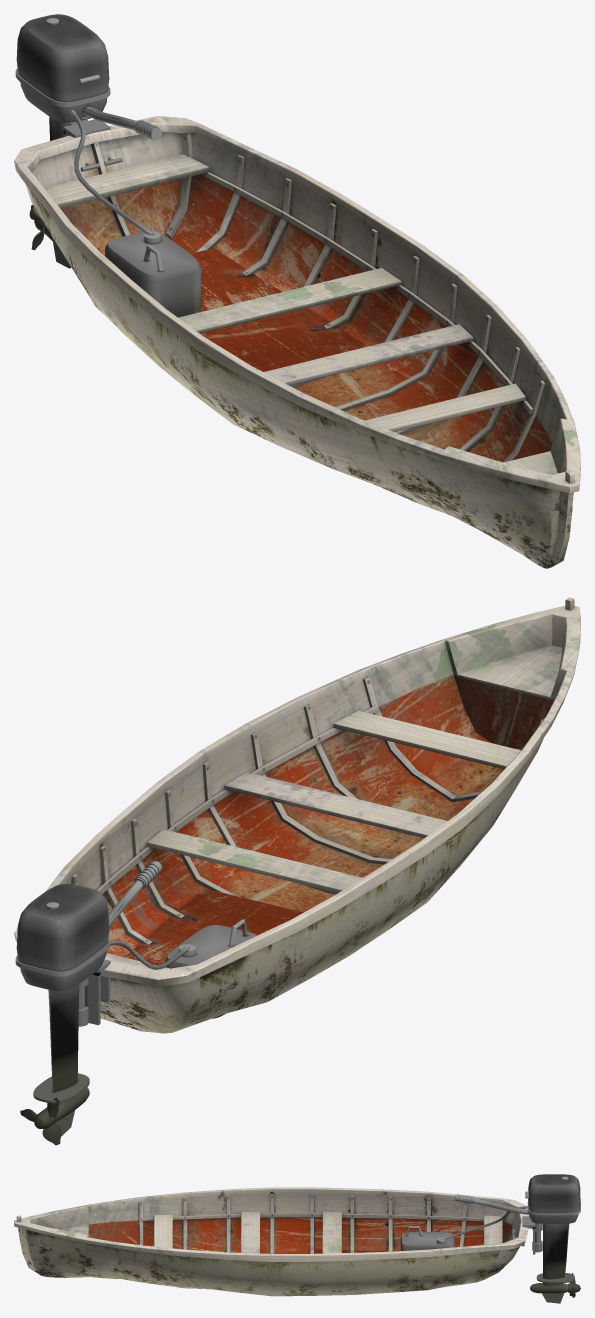
File: boat.glb
The picture shows the model from 3 angles, top to bottom: view 1: azimuth 30°, elevation 25°; view 2: azimuth 150°, elevation 25°; view 3: azimuth 270°, elevation 25°; orthographic projection. The views are drawn at different scales.
Parts seen in each view (by area): view 1: hull, motor, tank, bracket; view 2: hull, motor, tank, bracket, prop; view 3: hull, motor, tank, bracket.
Boxes of the visible parts, box(x1,y1,x2,y2) form: hull: box(14, 116, 580, 568); motor: box(15, 14, 162, 268); tank: box(70, 110, 200, 317); bracket: box(63, 119, 122, 171); hull: box(14, 597, 580, 1033); motor: box(15, 861, 162, 1136); tank: box(110, 919, 256, 1018); bracket: box(79, 959, 110, 1025); prop: box(20, 1097, 61, 1145); hull: box(14, 1187, 528, 1296); motor: box(454, 1174, 580, 1303); tank: box(400, 1206, 527, 1250); bracket: box(512, 1216, 540, 1254).
Bounding box in the file's own units: 1.06 × 0.91 × 3.72.
2 materials, 2 textured.
